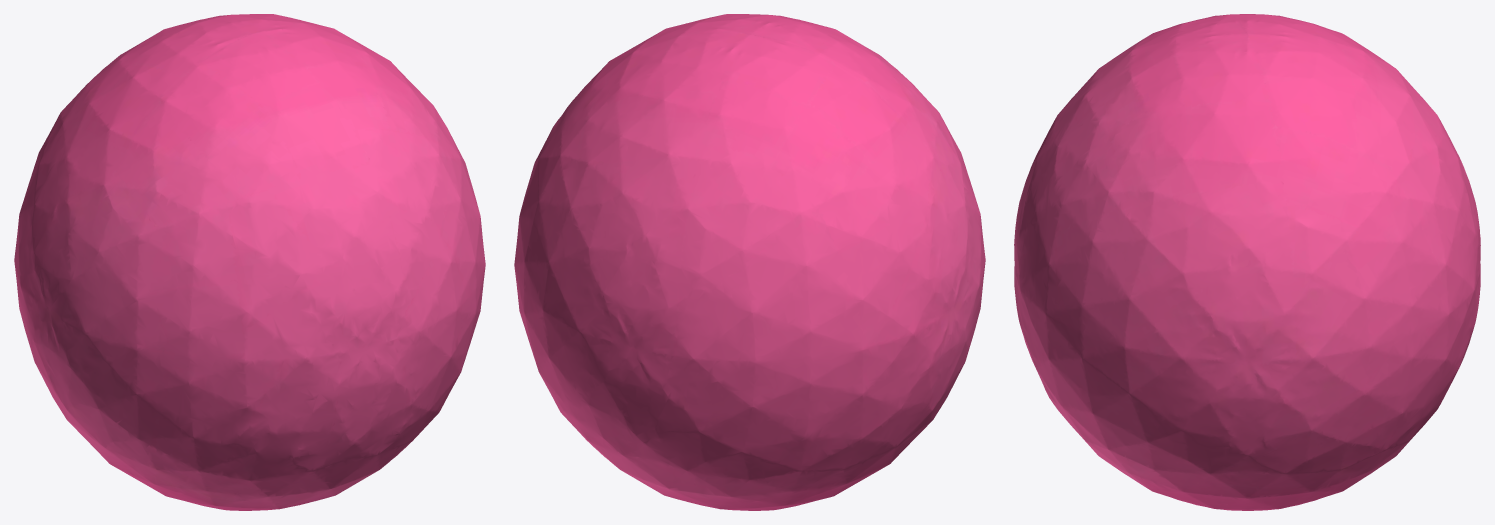
Rendered from Meshy_AI_A_bright_hot_pink_rub_0824213040_texture-optimized.glb.
3 views of the same model, side by side, from view 1: azimuth 30°, elevation 25°; view 2: azimuth 150°, elevation 25°; view 3: azimuth 270°, elevation 25° (orthographic).
Visible parts, largest first — view 1: mesh_node; view 2: mesh_node; view 3: mesh_node.
Part boxes in pixels (left/top/right/bottom): mesh_node: left=14, top=14, right=485, bottom=510; mesh_node: left=514, top=14, right=985, bottom=510; mesh_node: left=1014, top=14, right=1480, bottom=510.
Size of the model in its own units: 1.76 by 1.9 by 1.76.
1 material, 1 textured.
